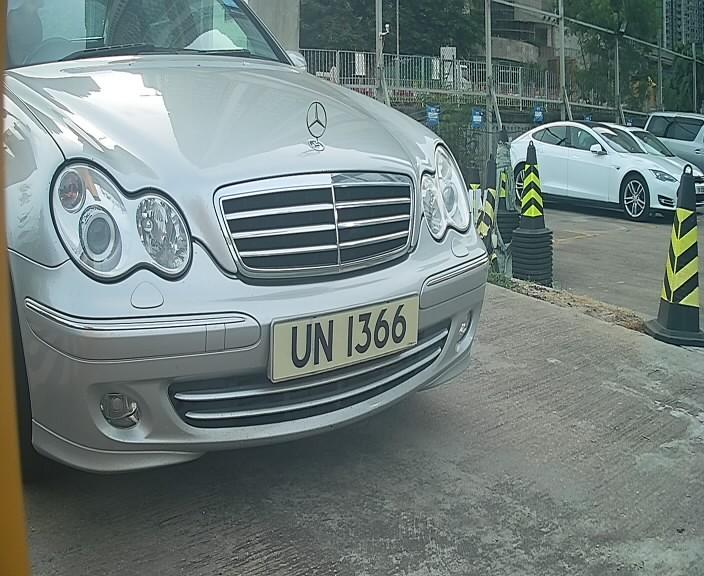License Plate: (268, 291, 425, 386)
